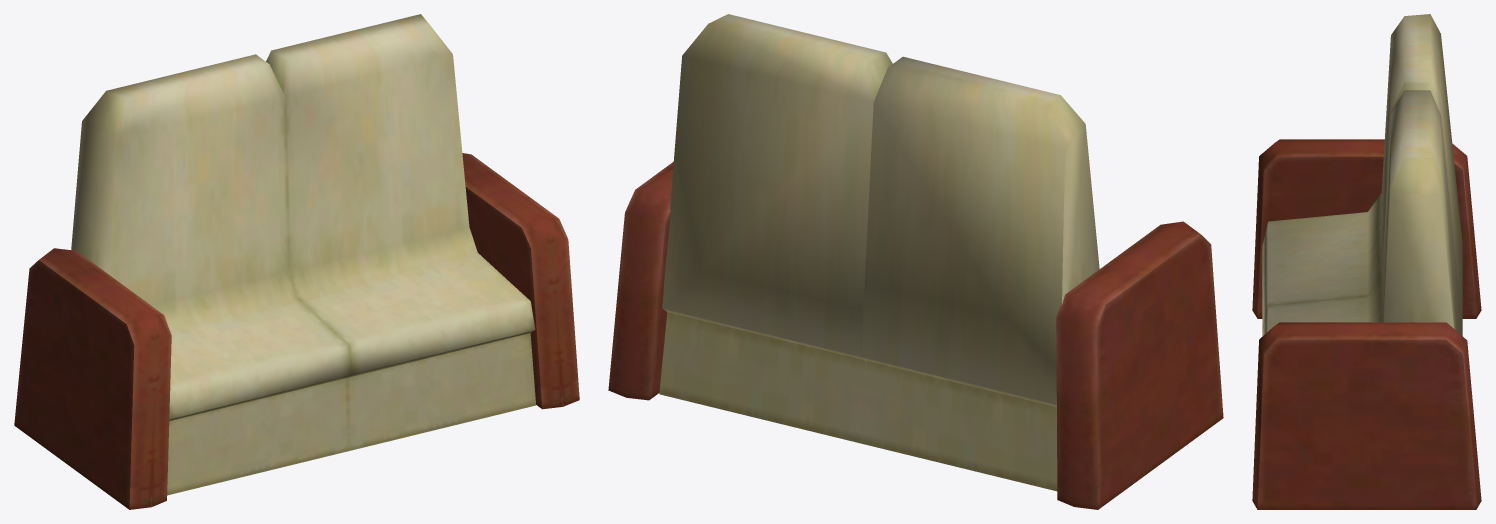
The model's file is frn_all_couch_love_seat_s1_l1.fbx.
The picture shows the model from 3 angles, left to right: view 1: azimuth 30°, elevation 25°; view 2: azimuth 150°, elevation 25°; view 3: azimuth 270°, elevation 25°; orthographic projection. The views are drawn at different scales.
Visible parts, largest first — view 1: mesh_node; view 2: mesh_node; view 3: mesh_node.
Boxes of the visible parts, left/top/right/bottom form: mesh_node: left=14, top=14, right=579, bottom=509; mesh_node: left=608, top=14, right=1223, bottom=509; mesh_node: left=1252, top=14, right=1481, bottom=509.
Size of the model in its own units: 1.67 by 1.19 by 0.7761.
Materials: 1 (1 with a texture image).
